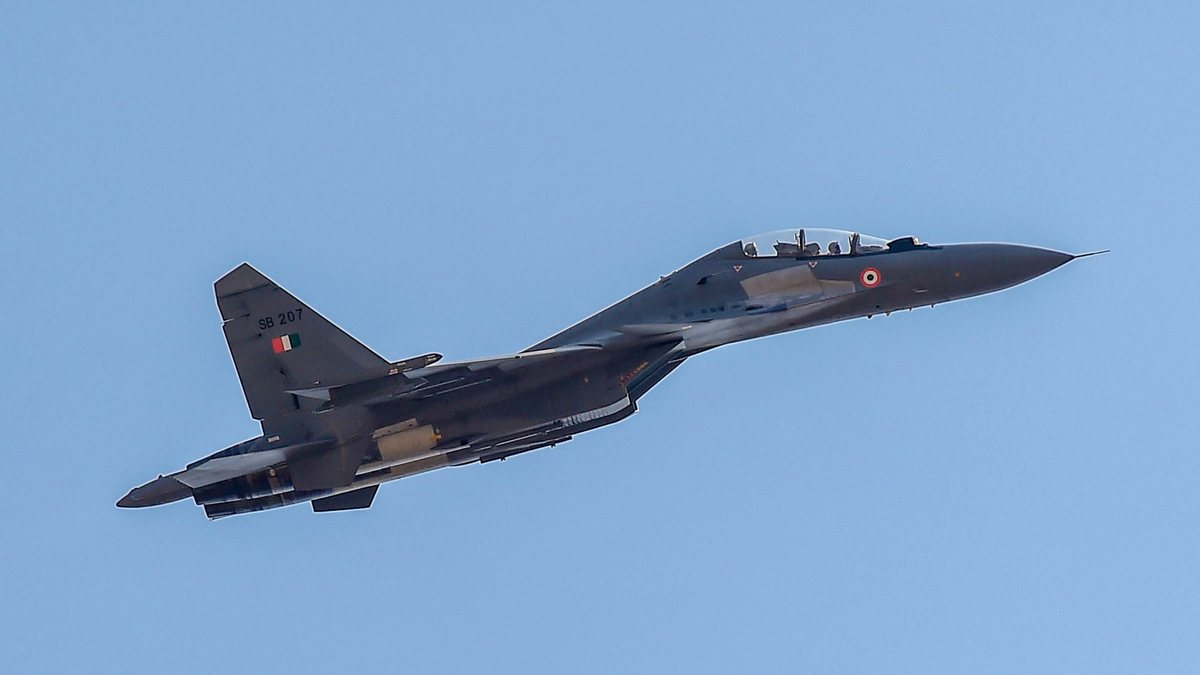maybay_muctieu: (113, 218, 1114, 527)
